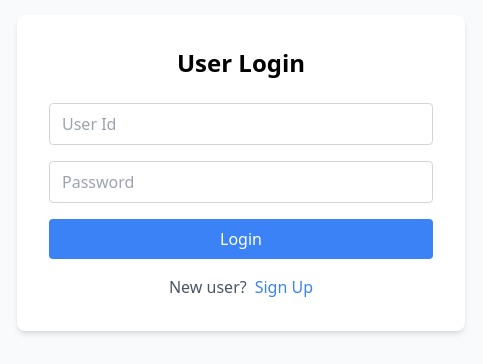
Scenario: Login Component › should display error when password is not supplied
Type "admin" into the field with placeholder "User Id" at (241, 124), box top-left (49, 103), bottom-right (433, 145)
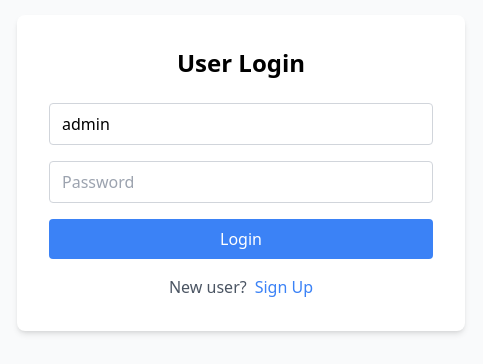
Click the button "Login" at (241, 239), box top-left (49, 219), bottom-right (433, 259)
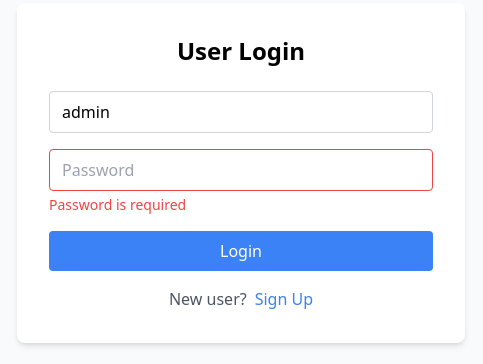
Now the text "Password is required" is shown, box top-left (49, 195), bottom-right (186, 214)
